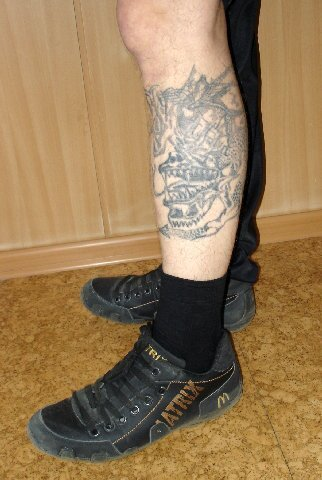tatu6_drakon: (131, 62, 258, 246)
